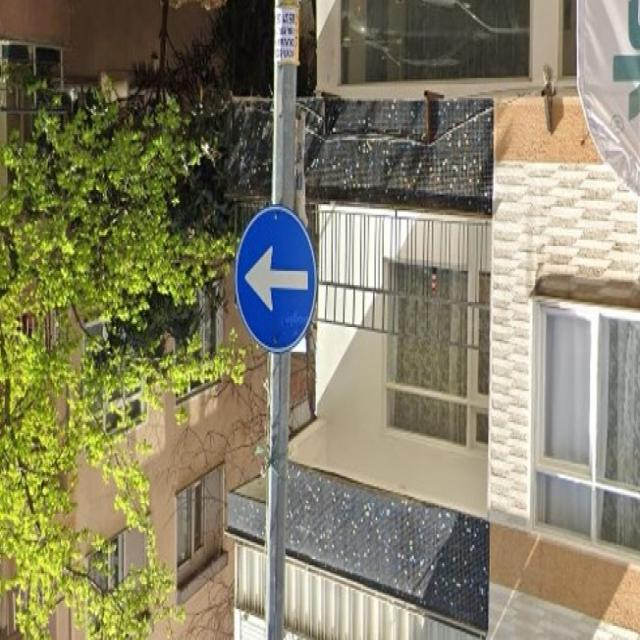Turn Left: (239, 209, 325, 358)
